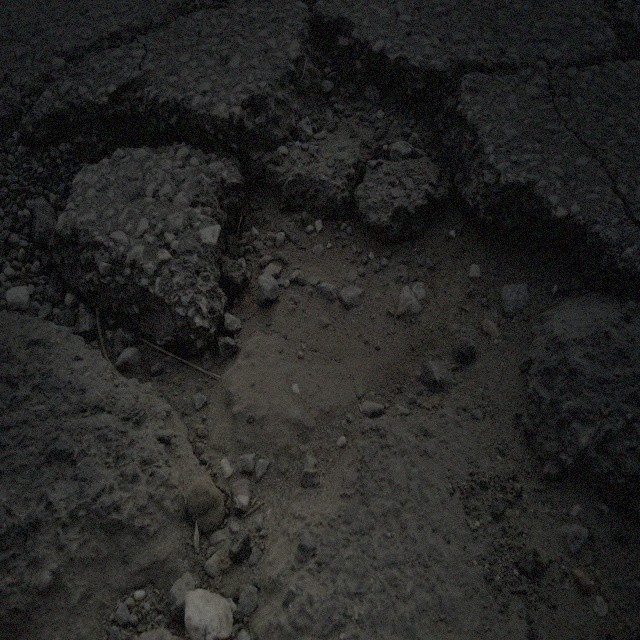pothole: (137, 106, 582, 548)
